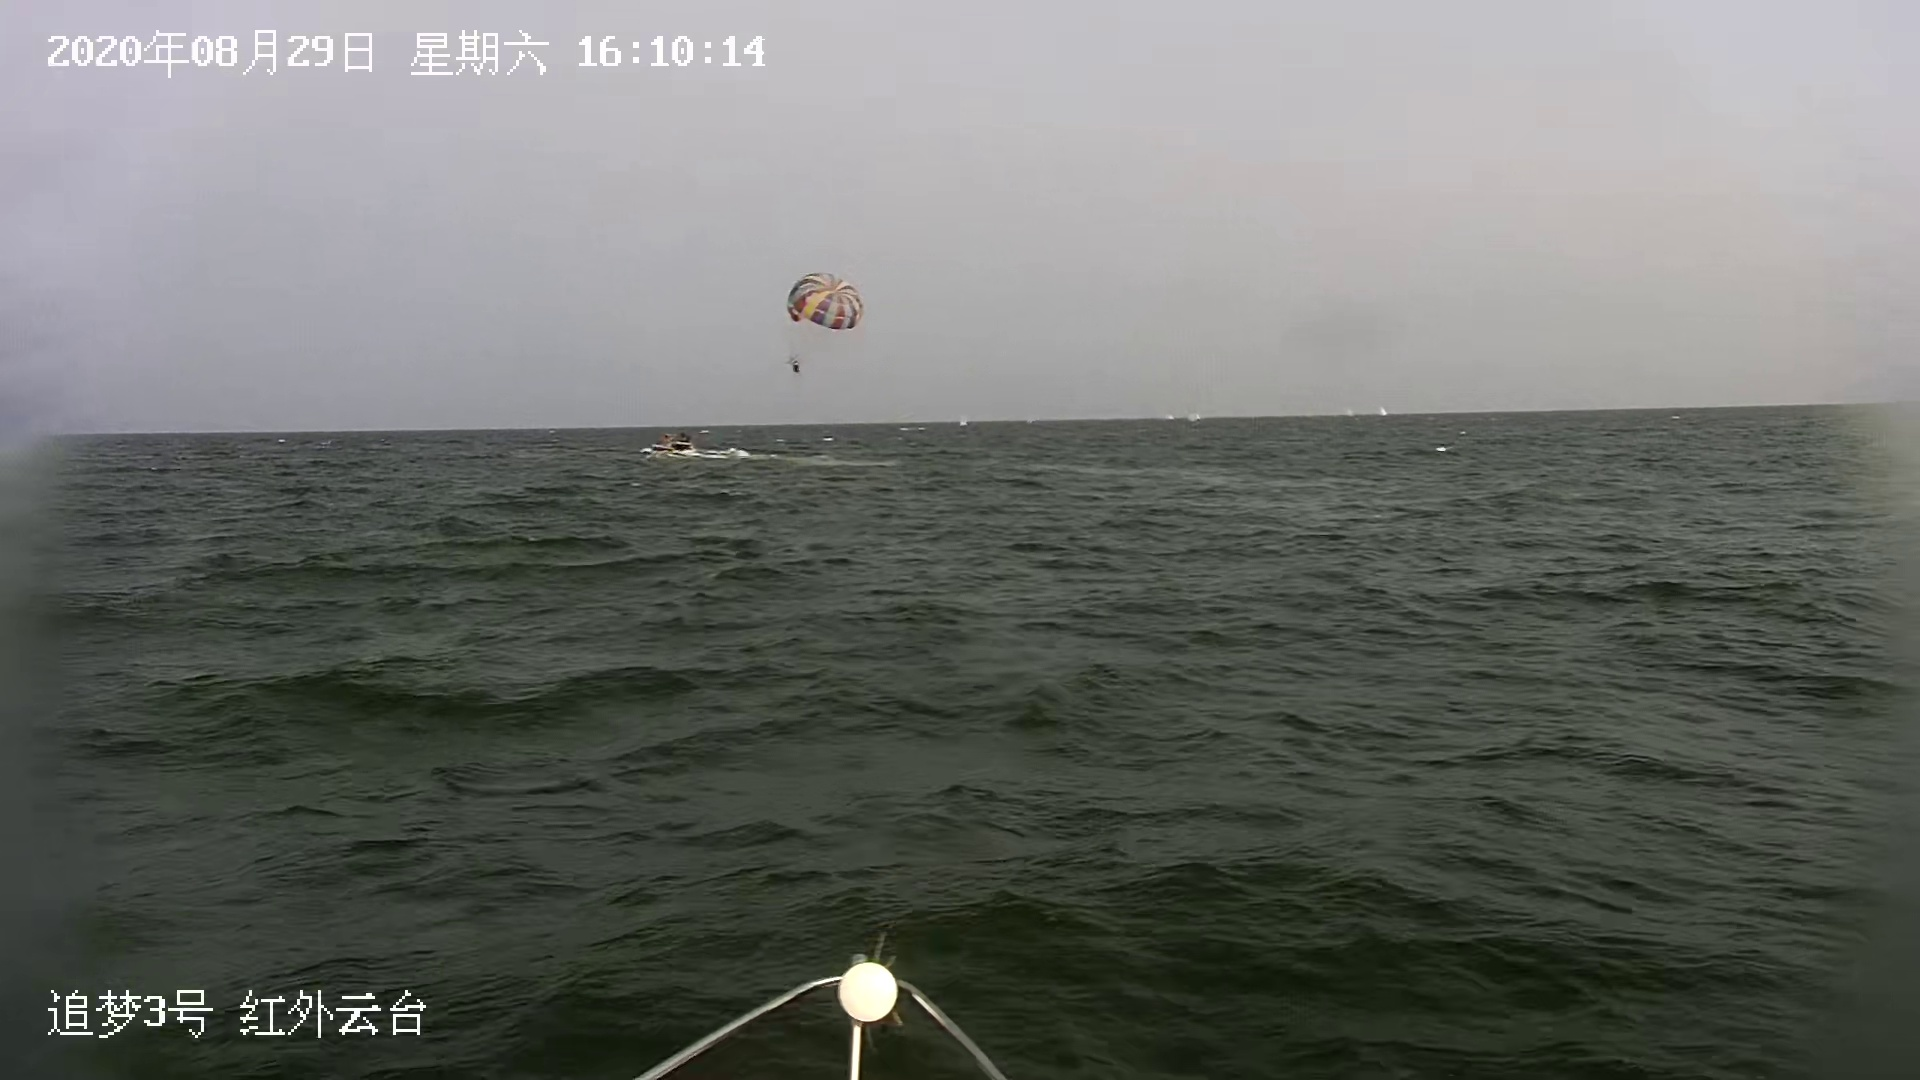barrier: (636, 433, 702, 458), (953, 417, 975, 429), (1377, 406, 1394, 419), (1345, 406, 1358, 418), (1188, 411, 1200, 422)
